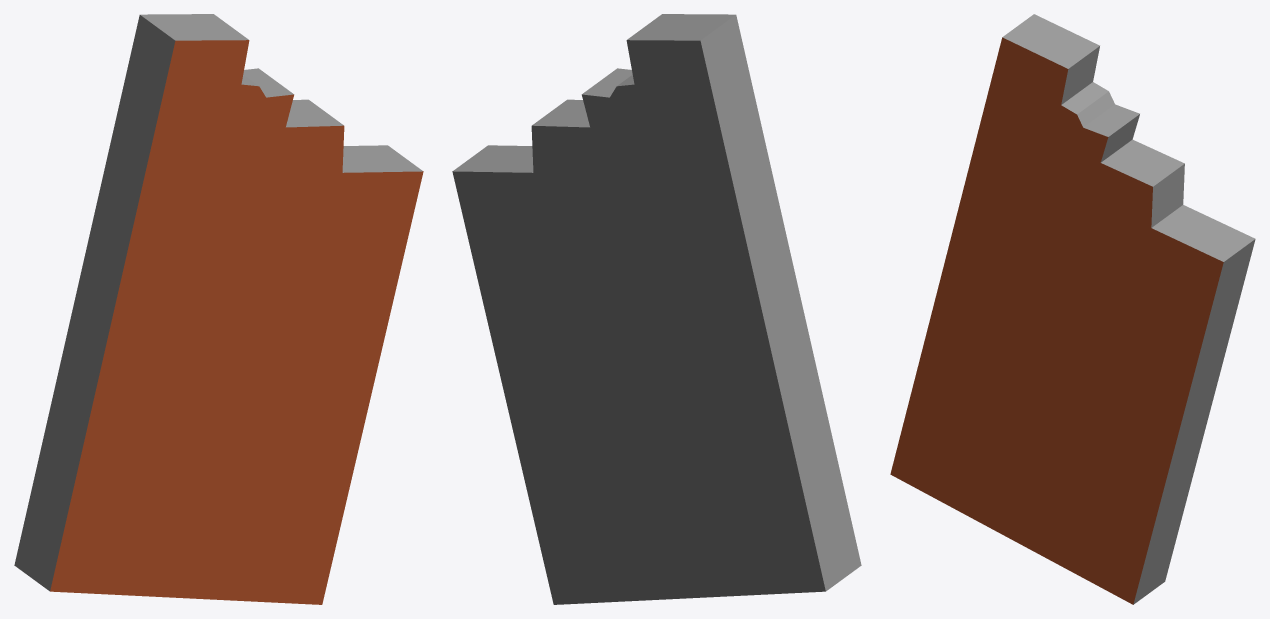
Rendered from construction_6777_assumed_A_Casa_h6m.obj.
3 renders of one model, left to right at view 1: azimuth 30°, elevation 25°; view 2: azimuth 150°, elevation 25°; view 3: azimuth 330°, elevation 25°, orthographic. The views are drawn at different scales.
Visible parts, largest first — view 1: construction_6777_assumed_A_Casa; view 2: construction_6777_assumed_A_Casa; view 3: construction_6777_assumed_A_Casa.
Part boxes in pixels (x1,y1,x2,y2): construction_6777_assumed_A_Casa: (14, 14, 423, 604); construction_6777_assumed_A_Casa: (452, 14, 861, 604); construction_6777_assumed_A_Casa: (890, 14, 1255, 604).
Size of the model in its own units: 36.24 by 55.63 by 6.
